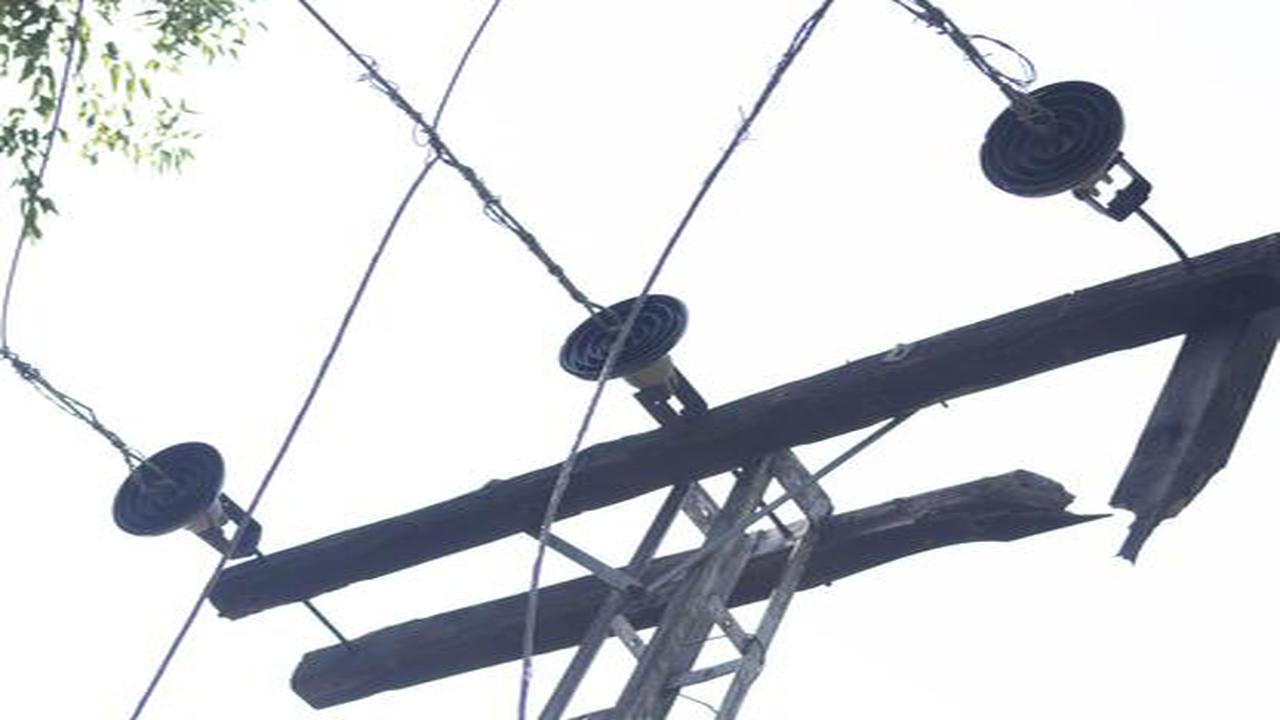insulator_disc: (977, 79, 1151, 219), (104, 440, 250, 540), (557, 297, 690, 383)
